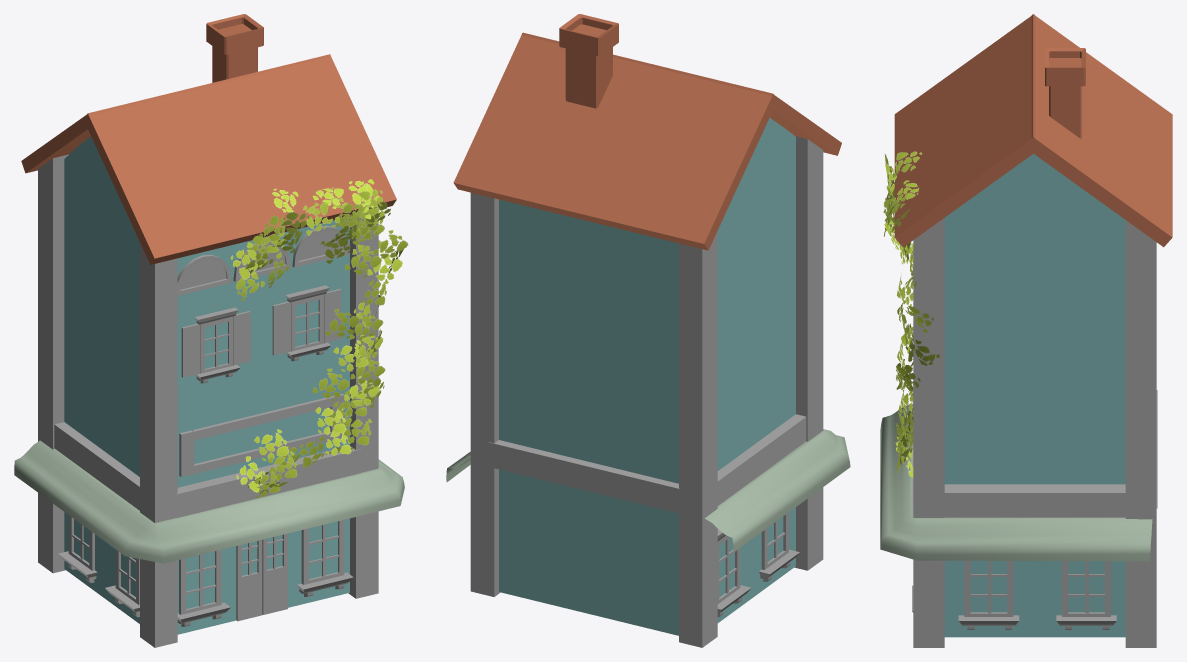
Rendered from DowntownHouse4_Low.fbx.
3 views of the same model, side by side, from view 1: azimuth 30°, elevation 25°; view 2: azimuth 150°, elevation 25°; view 3: azimuth 270°, elevation 25° (orthographic). The views are drawn at different scales.
Parts seen in each view (by area): view 1: polySurface167, polySurface122, polySurface166; view 2: polySurface167, polySurface122, polySurface166; view 3: polySurface167, polySurface122, polySurface166.
Boxes of the visible parts, x1=… form: polySurface167: x1=38, y1=137, x2=408, y2=647; polySurface122: x1=21, y1=14, x2=396, y2=264; polySurface166: x1=14, y1=440, x2=404, y2=563; polySurface167: x1=470, y1=118, x2=823, y2=647; polySurface122: x1=453, y1=14, x2=841, y2=250; polySurface166: x1=446, y1=429, x2=850, y2=552; polySurface167: x1=883, y1=151, x2=1157, y2=647; polySurface122: x1=894, y1=14, x2=1172, y2=247; polySurface166: x1=880, y1=404, x2=1152, y2=561.
Bounding box in the file's own units: 35.28 × 63.44 × 30.43.
